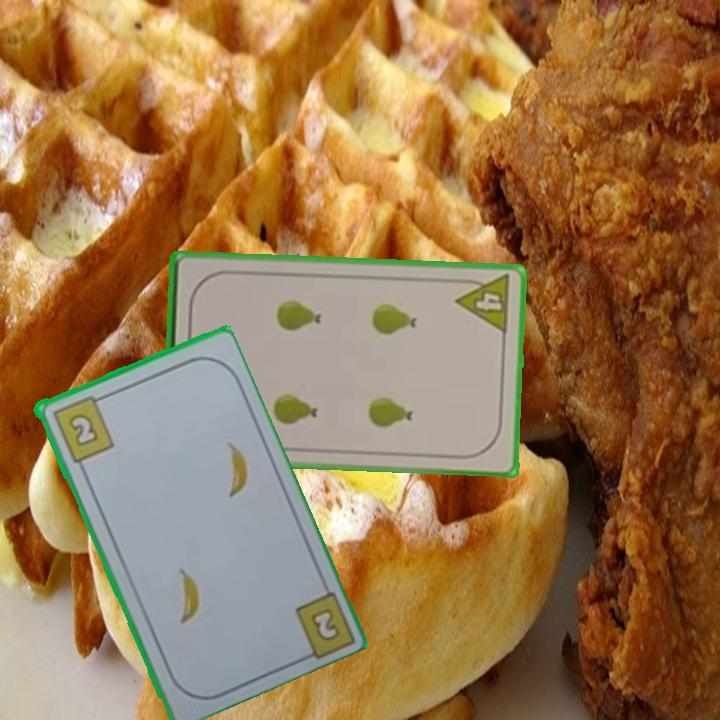2b: (48, 391, 117, 465), (306, 604, 340, 642)
4p: (453, 271, 514, 336)
